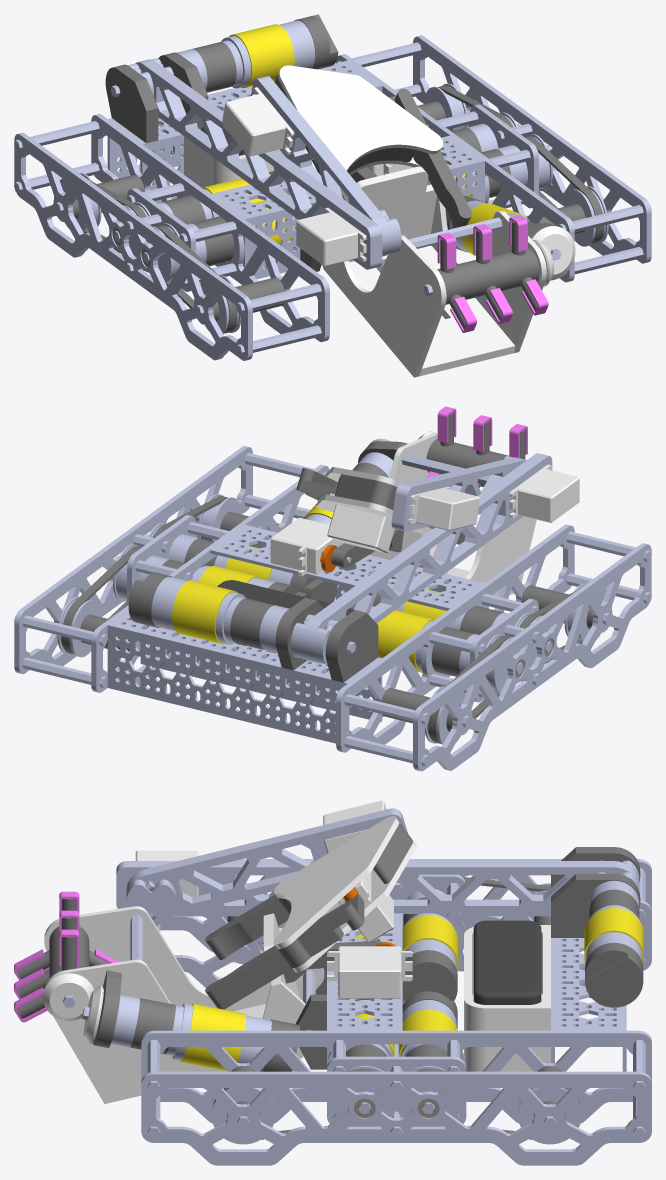
File: Bailey.fbx
3 views of the same model, one above another, from view 1: azimuth 30°, elevation 25°; view 2: azimuth 150°, elevation 25°; view 3: azimuth 270°, elevation 25° (orthographic). The views are drawn at different scales.
Parts seen in each view (by area): view 1: Body1 (×32), Body2 (×5), Body40 (×3), Body44 (×2), Body11 (×2), Body42, Body43, Body3, Body10, Body4; view 2: Body1 (×31), Body2 (×6), Body44 (×4), Body40 (×3), Body43 (×2), Body11 (×2), Body42, Body3 (×2), Body39, Body7; view 3: Body1 (×32), Body2 (×5), Body43 (×4), Body44 (×4), Body42 (×4), Body40 (×2), Body3, Body39, Body11.
Part boxes in pixels (left/top/right/bottom): Body1 (×32): left=14, top=35, right=651, bottom=377; Body2 (×5): left=156, top=42, right=575, bottom=333; Body40 (×3): left=161, top=42, right=236, bottom=266; Body44 (×2): left=229, top=24, right=524, bottom=255; Body11 (×2): left=14, top=121, right=651, bottom=232; Body42: left=221, top=20, right=315, bottom=88; Body43: left=294, top=14, right=338, bottom=69; Body3: left=236, top=325, right=321, bottom=355; Body10: left=179, top=221, right=236, bottom=244; Body4: left=437, top=232, right=456, bottom=269; Body1 (×31): left=14, top=412, right=651, bottom=771; Body2 (×6): left=14, top=474, right=651, bottom=670; Body44 (×4): left=172, top=546, right=434, bottom=672; Body40 (×3): left=230, top=598, right=503, bottom=676; Body43 (×2): left=128, top=572, right=337, bottom=627; Body11 (×2): left=244, top=453, right=429, bottom=724; Body42: left=151, top=576, right=245, bottom=644; Body3 (×2): left=14, top=573, right=651, bottom=687; Body39: left=259, top=605, right=289, bottom=653; Body7: left=429, top=632, right=486, bottom=654; Body1 (×32): left=16, top=800, right=651, bottom=1165; Body2 (×5): left=83, top=822, right=645, bottom=1092; Body43 (×4): left=263, top=942, right=643, bottom=1071; Body44 (×4): left=181, top=908, right=643, bottom=1070; Body42 (×4): left=172, top=905, right=642, bottom=1071; Body40 (×2): left=130, top=889, right=639, bottom=1054; Body3: left=43, top=973, right=93, bottom=1020; Body39: left=111, top=994, right=139, bottom=1047; Body11: left=147, top=1040, right=160, bottom=1092.
Size of the model in its own units: 12.92 by 6.42 by 15.93.
